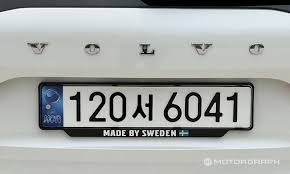car: (35, 77, 260, 142)
